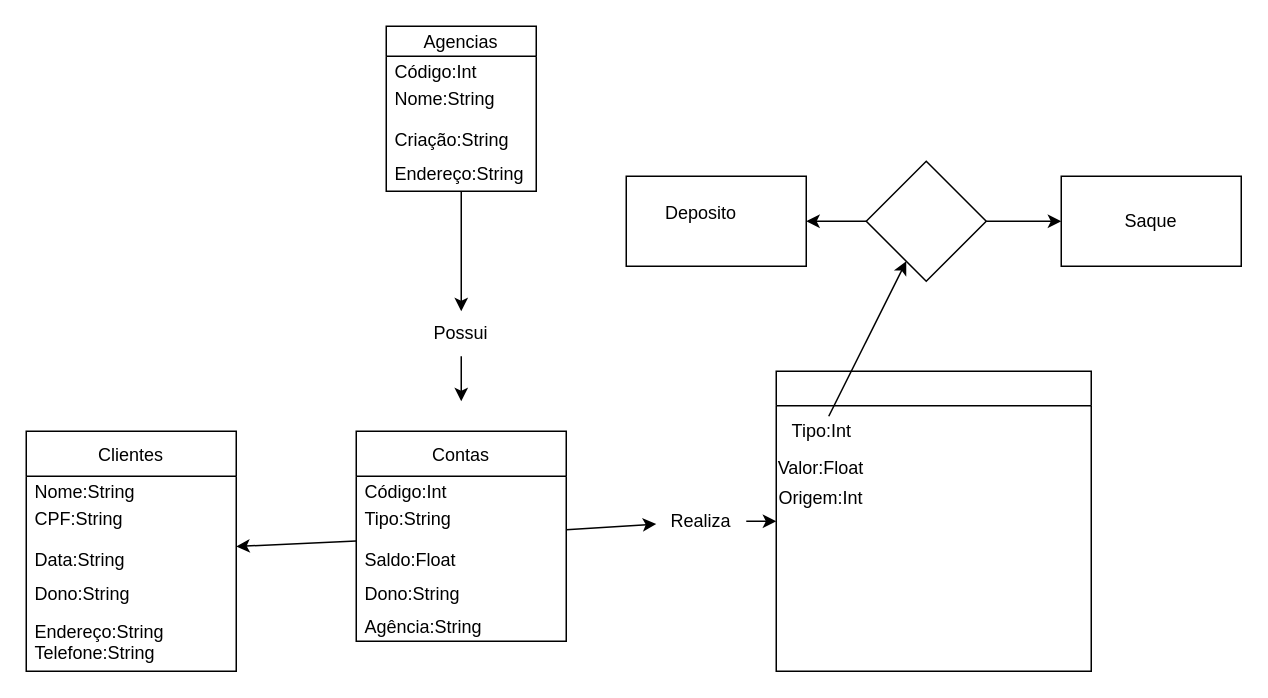
Some shapes in this 1268 by 698 pixel diagram are drawn without their labels. Here are the shapes that lost their labels. From the top down, the box of each, then its label:
(865, 160, 986, 281): Tipo
(775, 370, 1091, 671): Transações
